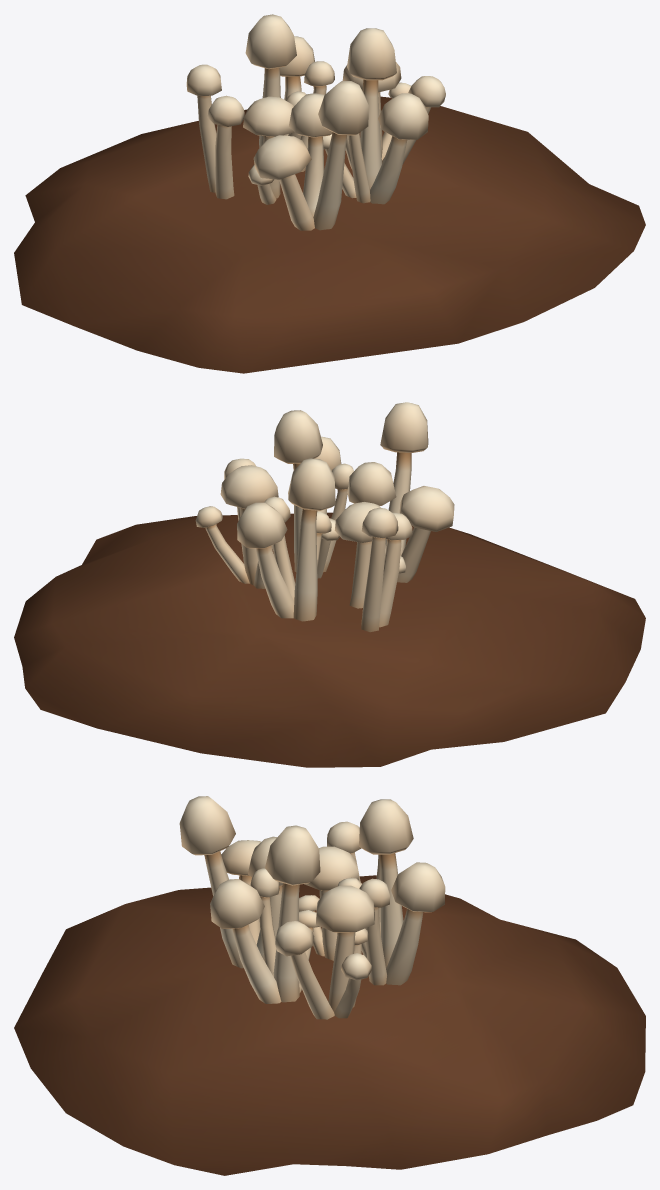
Rendered from SM_PlantSoil_WhiteBeech_Lv3.fbx.
3 views of the same model, one above another, from view 1: azimuth 30°, elevation 25°; view 2: azimuth 150°, elevation 25°; view 3: azimuth 270°, elevation 25° (orthographic). The views are drawn at different scales.
Visible parts, largest first — view 1: SM_PlantSoil_WhiteBeech_Lv3; view 2: SM_PlantSoil_WhiteBeech_Lv3; view 3: SM_PlantSoil_WhiteBeech_Lv3.
Part boxes in pixels (x1,y1,x2,y2): SM_PlantSoil_WhiteBeech_Lv3: (14, 14, 645, 373); SM_PlantSoil_WhiteBeech_Lv3: (14, 402, 645, 767); SM_PlantSoil_WhiteBeech_Lv3: (14, 796, 645, 1175).
Bounding box in the file's own units: 118 × 41.77 × 106.
